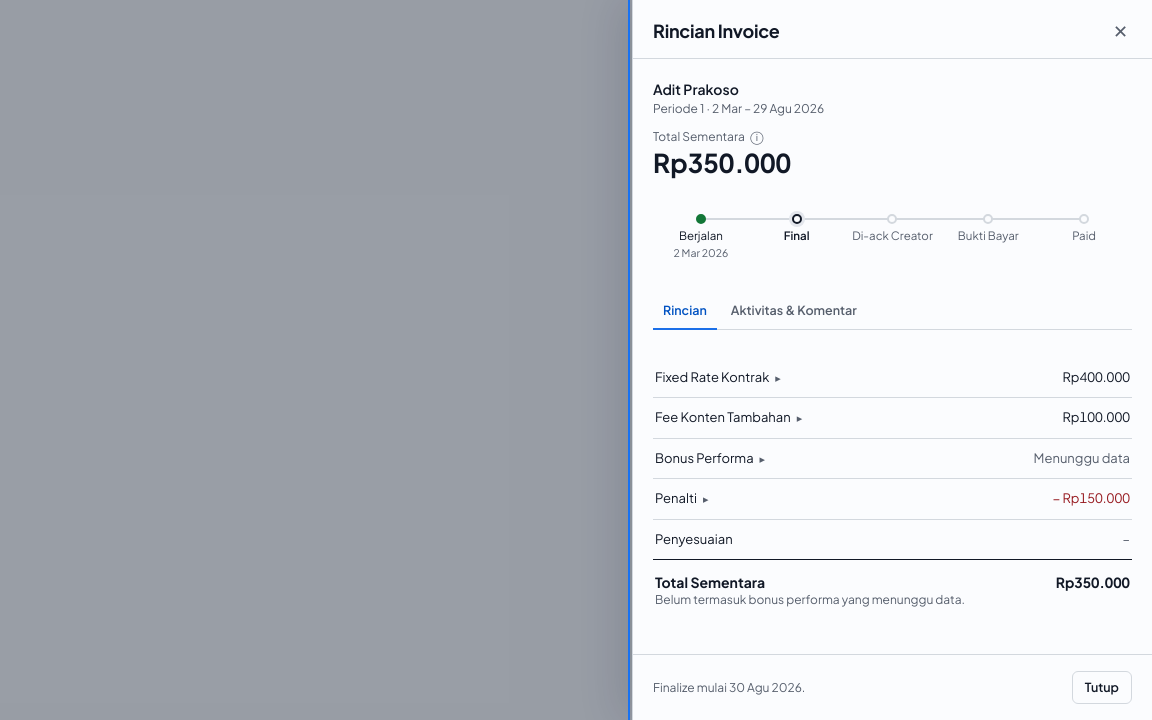
Test case: InvoiceRincian › unfolds a part's lines on a press, and says so to a screen reader
What coordinates should you click on to do the following:
click the button "Penalti ▸ − Rp150.000"
I would click on:
 (676, 498)
Its box is x1=653 y1=479 x2=1132 y2=519.
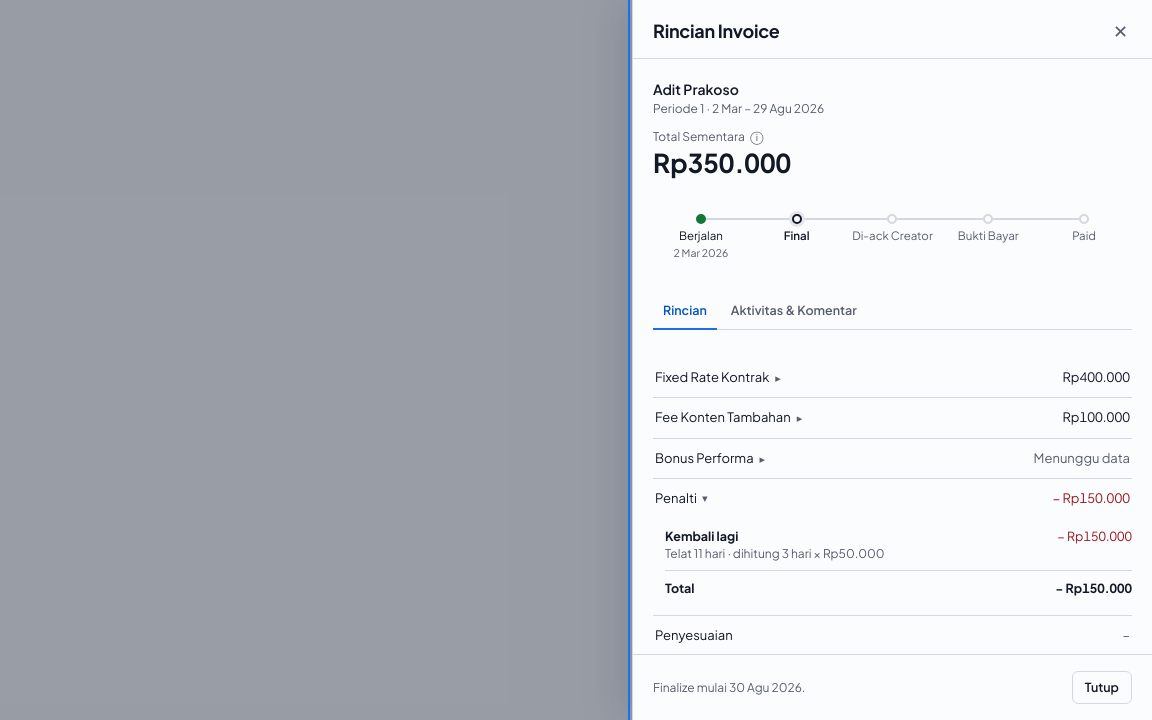
Check: the button "Kembali lagi" is shown, box x1=665 y1=527 x2=738 y2=546
